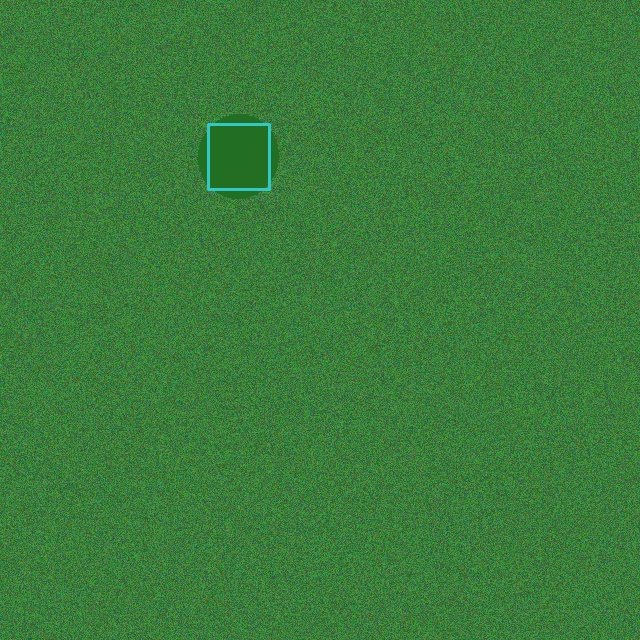army worm: (198, 114, 279, 199)
